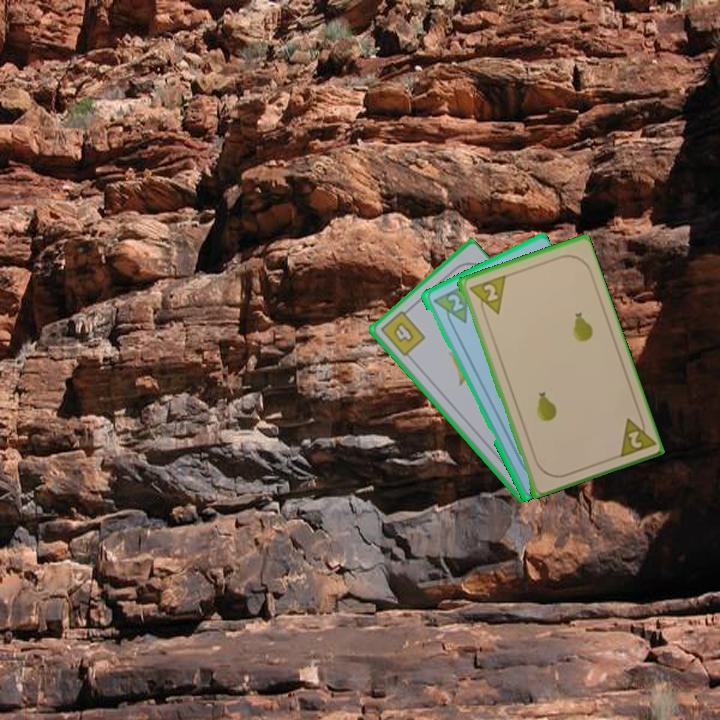2p: (613, 409, 656, 461), (465, 272, 508, 320), (444, 290, 466, 314)
4b: (377, 304, 428, 359)
